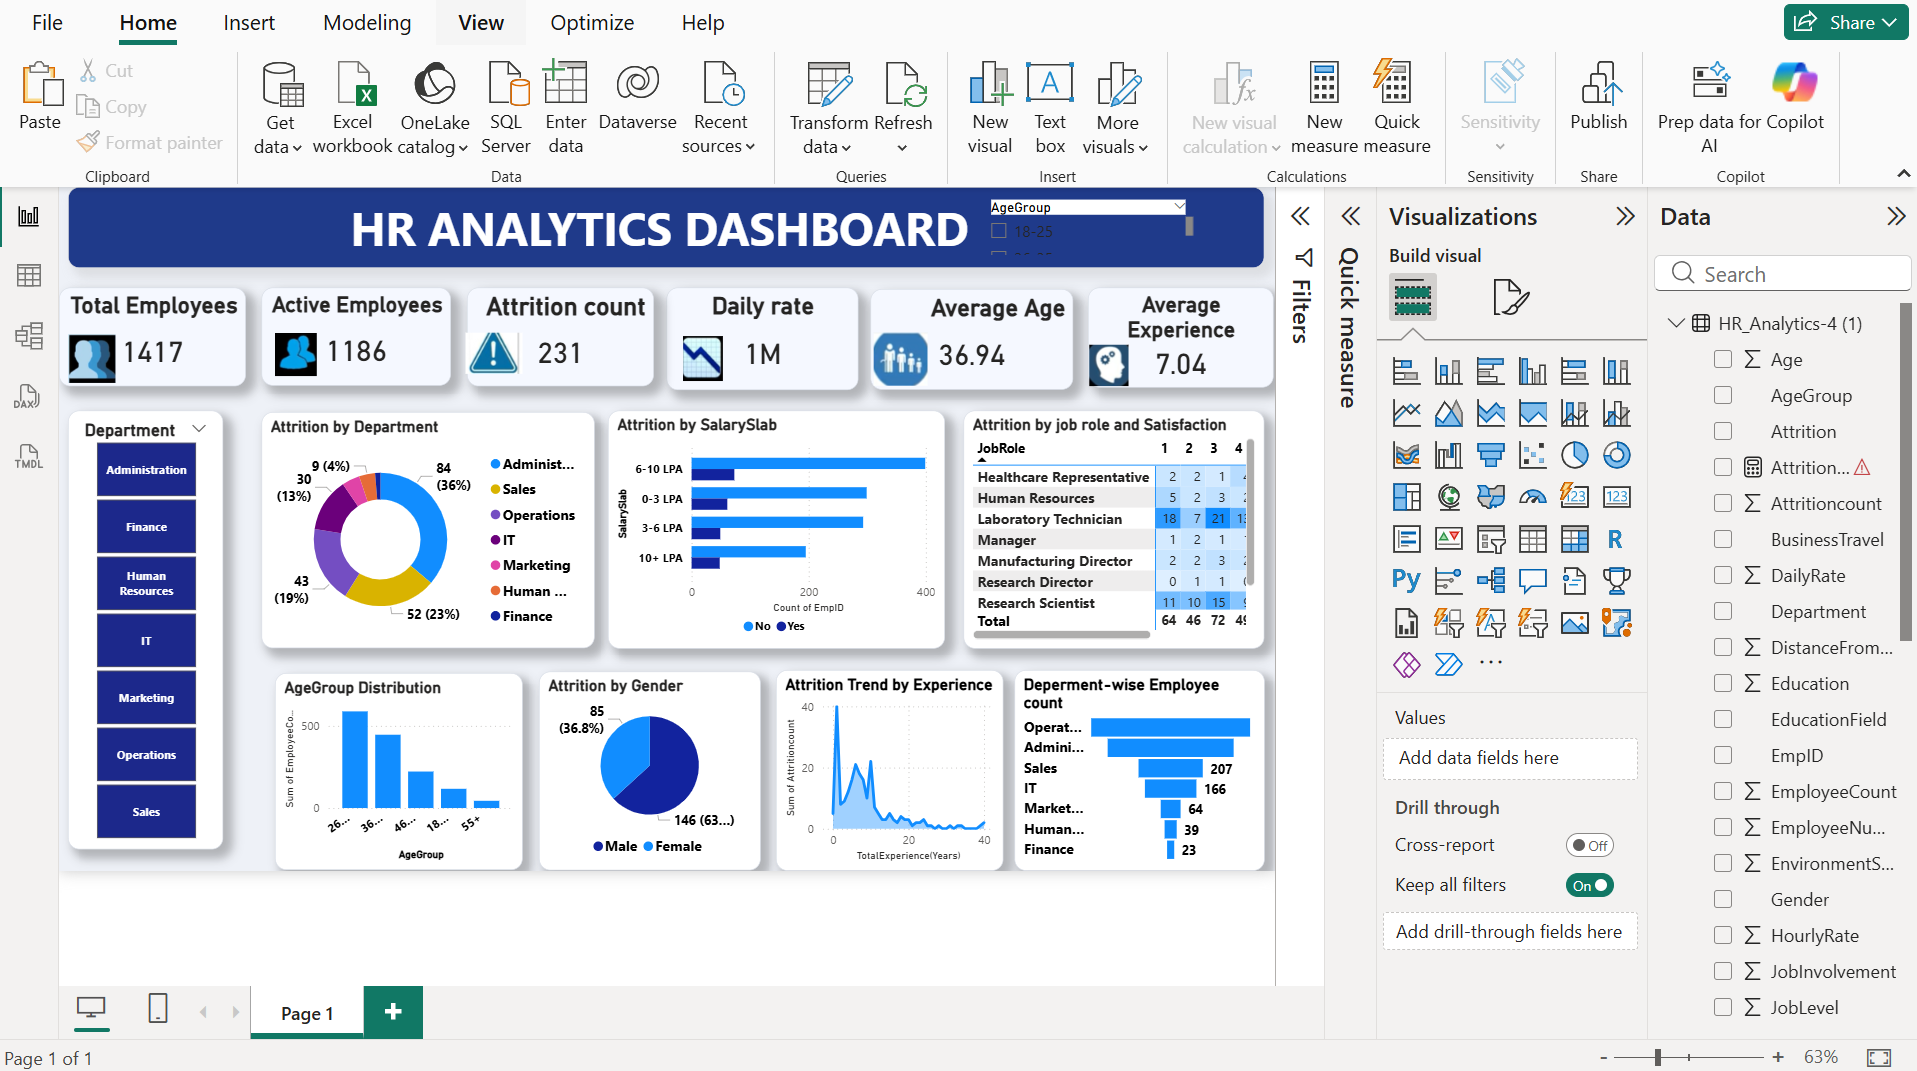

Layout of this report page (visuals, bound fields, positions):
{"tool":"powerbi","page":{"name":"Page 1","canvas":[1280,720],"ordinal":0},"visuals":[{"type":"textbox","box":[10,0,1259,85],"z":0},{"type":"card","title":"Total Employees","fields":{"Values":["CountNonNull(HR_Analytics-4 (1).EmpID)"]},"box":[0,105.8,196.5,103.9],"z":1000},{"type":"card","title":"Daily rate","fields":{"Values":["Sum(HR_Analytics-4 (1).DailyRate)"]},"box":[638.7,105.8,202.2,107.7],"z":2000},{"type":"card","title":"Average Age","fields":{"Values":["Avg(HR_Analytics-4 (1).Age)"]},"box":[854.2,107.7,213.5,105.8],"z":3000},{"type":"card","title":"Average Experience","fields":{"Values":["Avg(HR_Analytics-4 (1).YearsatCompany)"]},"box":[1083.5,105.6,195.2,105.6],"z":4000},{"type":"card","title":"Active Employees","fields":{"Values":["Sum(HR_Analytics-4 (1).EmployeeCount)"]},"box":[213.1,105.6,199.2,103.6],"z":5000},{"type":"card","title":"Attrition count","fields":{"Values":["Sum(HR_Analytics-4 (1).Attritioncount)"]},"box":[429,105.8,196.5,103.9],"z":6000},{"type":"image","box":[854.5,153.4,63.7,55.8],"z":7000},{"type":"image","box":[10,151.4,49.8,57.8],"z":8000},{"type":"image","box":[657.3,151.4,41.8,57.8],"z":9000},{"type":"image","box":[227.1,143.4,43.8,65.7],"z":10000},{"type":"image","box":[1083.5,165.3,43.8,43.8],"z":11000},{"type":"image","box":[428.2,137.4,59.8,75.7],"z":12000},{"type":"donutChart","title":"Attrition by Department","fields":{"Category":["HR_Analytics-4 (1).Department"],"Y":["Sum(HR_Analytics-4 (1).Attritioncount)"]},"box":[213.1,237,350.5,249],"z":13000},{"type":"clusteredBarChart","title":"Attrition by SalarySlab","fields":{"Category":["HR_Analytics-4 (1).SalarySlab"],"Y":["CountNonNull(HR_Analytics-4 (1).EmpID)"],"Series":["HR_Analytics-4 (1).Attrition"]},"box":[577.6,235,354.5,251],"z":14000},{"type":"pivotTable","title":"Attrition by job role and Satisfaction","fields":{"Rows":["HR_Analytics-4 (1).JobRole"],"Values":["Sum(HR_Analytics-4 (1).Attritioncount)"],"Columns":["HR_Analytics-4 (1).JobSatisfaction"]},"box":[952,235,316.7,251],"z":15000},{"type":"columnChart","title":" AgeGroup Distribution","fields":{"Category":["HR_Analytics-4 (1).AgeGroup"],"Y":["Sum(HR_Analytics-4 (1).EmployeeCount)"]},"box":[227.1,511.9,260.9,207.1],"z":16000},{"type":"pieChart","title":"Attrition by Gender","fields":{"Category":["HR_Analytics-4 (1).Gender"],"Y":["Sum(HR_Analytics-4 (1).Attritioncount)"]},"box":[505.9,509.9,233,209.1],"z":17000},{"type":"areaChart","title":"Attrition Trend by Experience","fields":{"Y":["Sum(HR_Analytics-4 (1).Attritioncount)"],"Category":["HR_Analytics-4 (1).TotalExperience(Years)"]},"box":[754.9,507.9,239,211.1],"z":18000},{"type":"funnel","title":"Deperment-wise Employee count","fields":{"Y":["CountNonNull(HR_Analytics-4 (1).EmpID)"],"Category":["HR_Analytics-4 (1).Department"]},"box":[1006,508,263,211],"z":19000},{"type":"slicer","fields":{"Values":["HR_Analytics-4 (1).Department"]},"box":[10,235,163.3,462.1],"z":20000},{"type":"slicer","fields":{"Values":["HR_Analytics-4 (1).AgeGroup"]},"box":[967.9,7.9,230.5,67.9],"z":21000}]}

Visuals, with their boxes on the page's 1280x720 design canvas (x1, y1, x2, y2). These are canvas units, not pixel positions in the 1917x1071 screenshot, which may show the page scaled, cropped or inside an application window:
textbox: bbox=[10, 0, 1269, 85]
"Total Employees" card: bbox=[0, 106, 196, 210]
"Daily rate" card: bbox=[639, 106, 841, 214]
"Average Age" card: bbox=[854, 108, 1068, 214]
"Average Experience" card: bbox=[1084, 106, 1279, 211]
"Active Employees" card: bbox=[213, 106, 412, 209]
"Attrition count" card: bbox=[429, 106, 626, 210]
image: bbox=[854, 153, 918, 209]
image: bbox=[10, 151, 60, 209]
image: bbox=[657, 151, 699, 209]
image: bbox=[227, 143, 271, 209]
image: bbox=[1084, 165, 1127, 209]
image: bbox=[428, 137, 488, 213]
"Attrition by Department" donutChart: bbox=[213, 237, 564, 486]
"Attrition by SalarySlab" clusteredBarChart: bbox=[578, 235, 932, 486]
"Attrition by job role and Satisfaction" pivotTable: bbox=[952, 235, 1269, 486]
" AgeGroup Distribution" columnChart: bbox=[227, 512, 488, 719]
"Attrition by Gender" pieChart: bbox=[506, 510, 739, 719]
"Attrition Trend by Experience" areaChart: bbox=[755, 508, 994, 719]
"Deperment-wise Employee count" funnel: bbox=[1006, 508, 1269, 719]
slicer - HR_Analytics-4 (1).Department: bbox=[10, 235, 173, 697]
slicer - HR_Analytics-4 (1).AgeGroup: bbox=[968, 8, 1198, 76]
